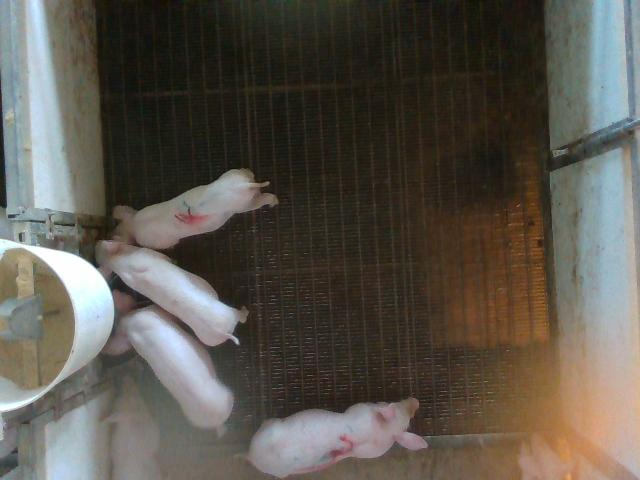pig-3: (248, 398, 428, 477)
pig-4: (114, 169, 279, 249)
